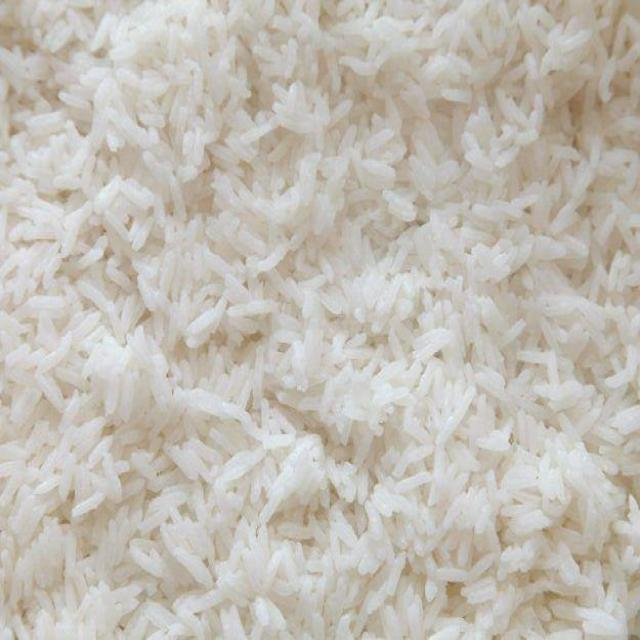rice: (2, 3, 636, 639)
